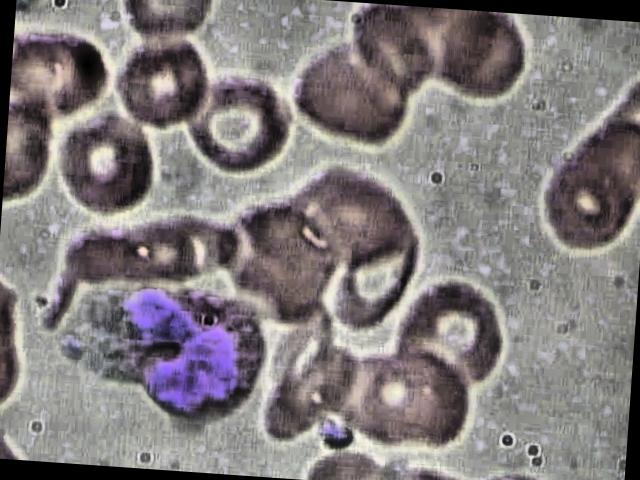Platelets: (318, 414, 357, 450), (57, 331, 90, 362)
RBC: (286, 36, 414, 152), (388, 276, 516, 390), (517, 142, 640, 257), (318, 224, 435, 336), (290, 163, 416, 261), (50, 110, 164, 218), (102, 28, 217, 135), (182, 70, 298, 176), (213, 188, 330, 290), (350, 341, 452, 447), (429, 9, 538, 107), (63, 210, 201, 286), (8, 20, 109, 120)
WBC: (106, 274, 273, 428)
